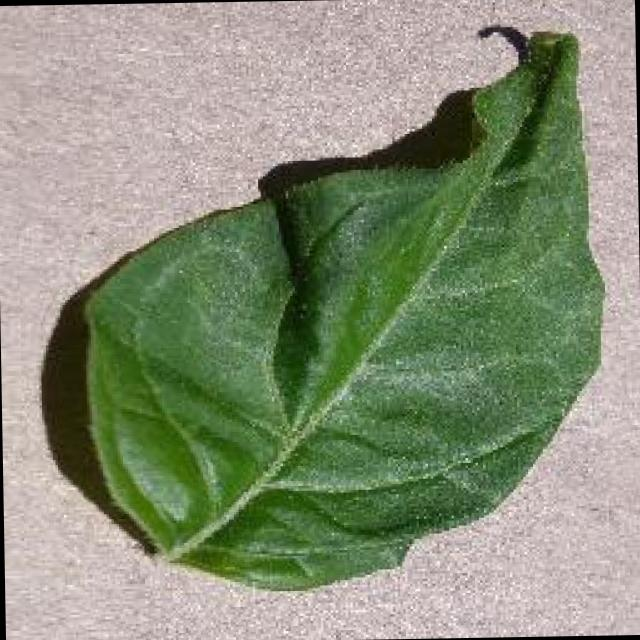Chilli_Healthy: (70, 20, 610, 597)
